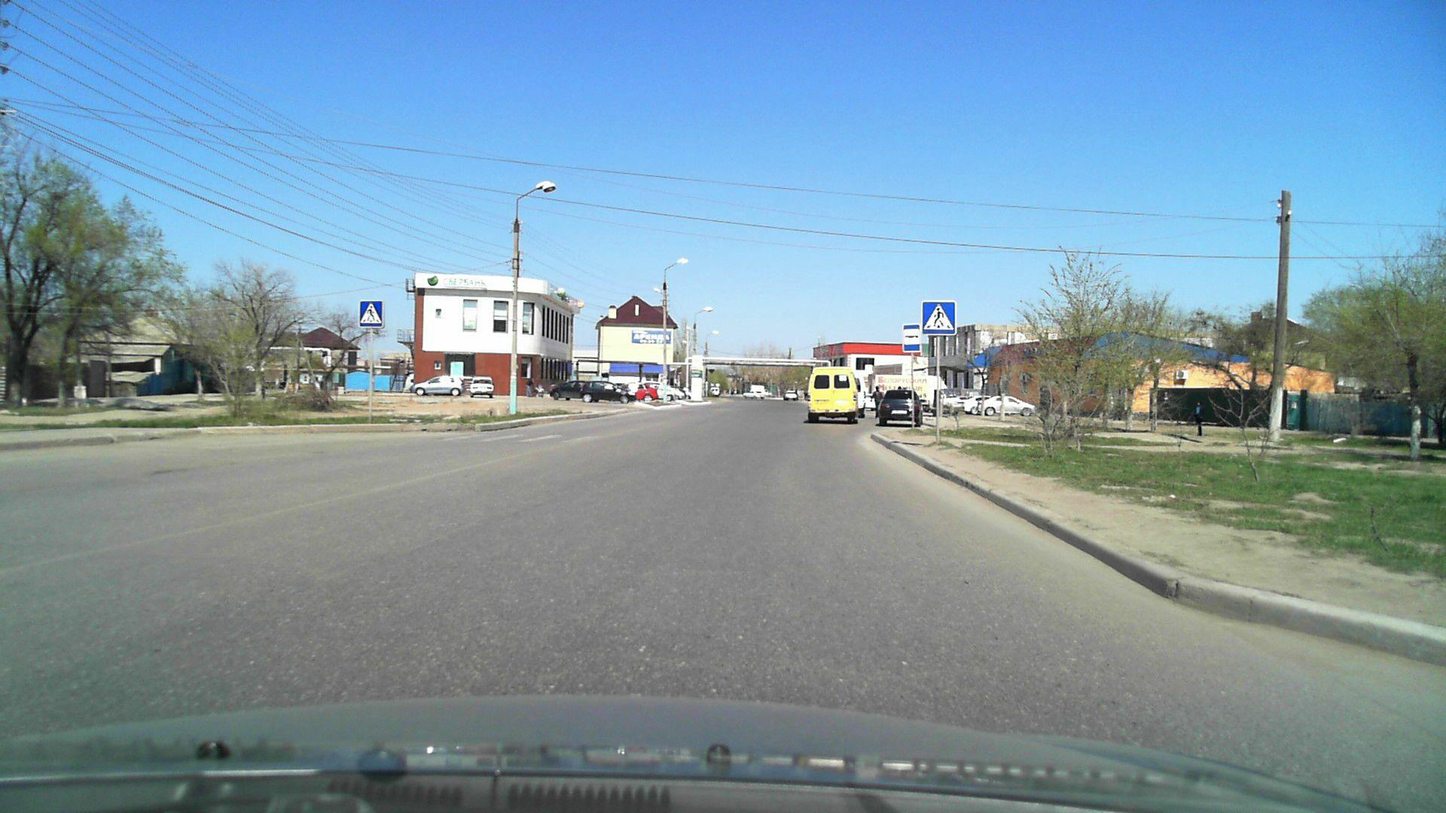road_sign: (921, 300, 957, 335), (360, 300, 384, 328), (902, 324, 923, 352)
